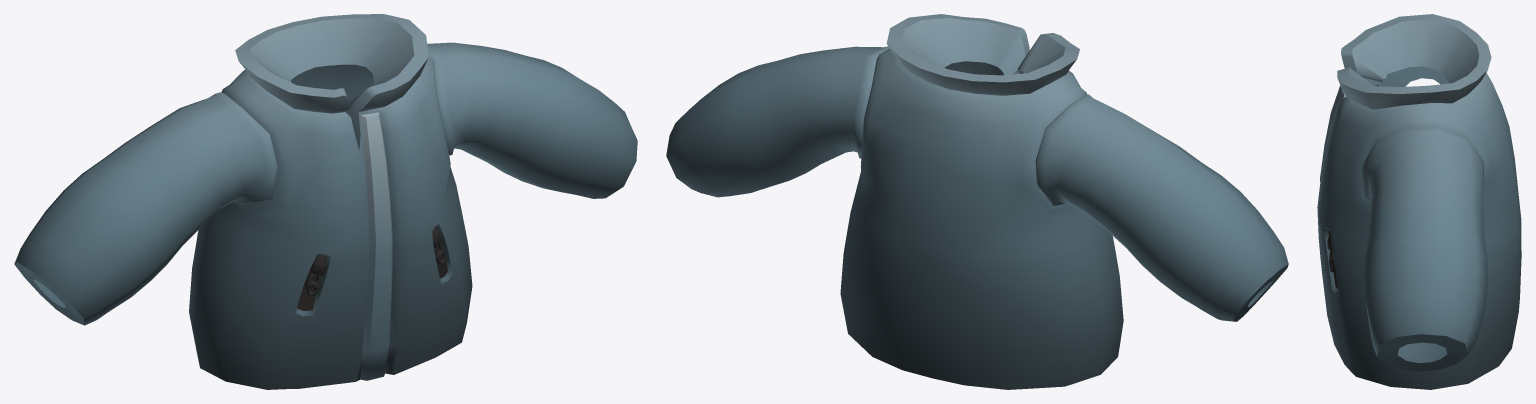
The model's file is Outwear_14.glb.
3 views of the same model, side by side, from view 1: azimuth 30°, elevation 25°; view 2: azimuth 150°, elevation 25°; view 3: azimuth 270°, elevation 25° (orthographic). The views are drawn at different scales.
Parts seen in each view (by area): view 1: Outwear_14; view 2: Outwear_14; view 3: Outwear_14.
Boxes of the visible parts, box(x1,y1,x2,y2) form: Outwear_14: box(14, 14, 637, 389); Outwear_14: box(666, 14, 1288, 389); Outwear_14: box(1317, 14, 1521, 389).
Bounding box in the file's own units: 0.6437 × 0.3096 × 0.2015.
Materials: 1 (1 with a texture image).
